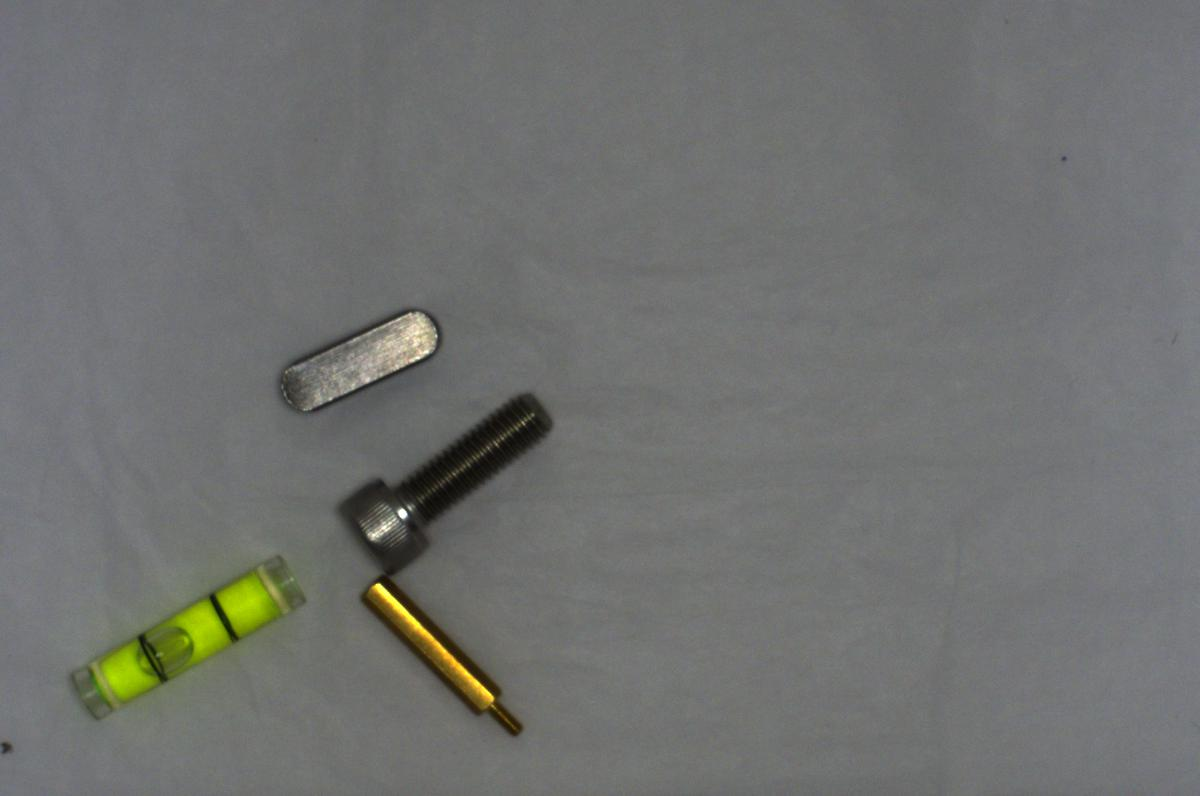Hexagon pillar: (353, 578, 530, 749)
Hexagon screw: (333, 388, 554, 566)
Horizontal bubble: (66, 552, 306, 719)
Keybar: (266, 302, 450, 414)
